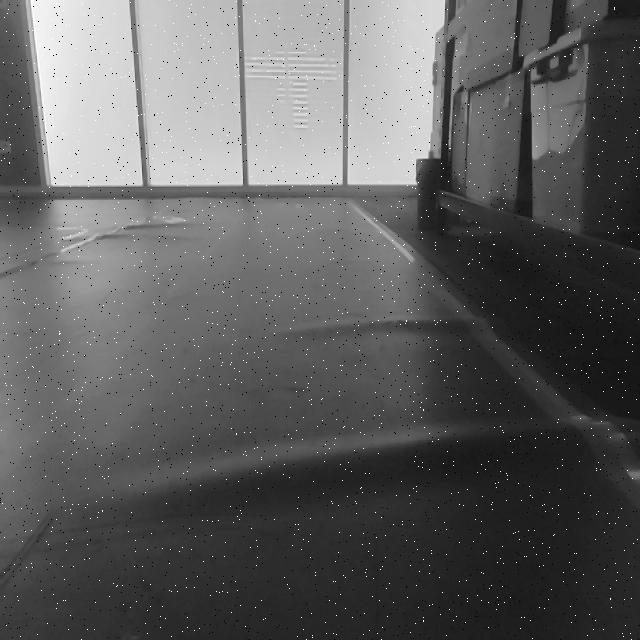left_lane: (0, 208, 245, 489)
right_lane: (349, 201, 640, 506)
